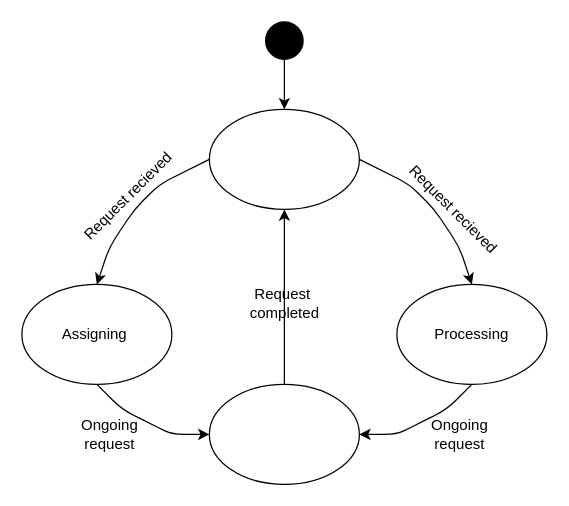
Some shapes in this 569 by 506 pixel diagram are drawn without their labels. The shapes that lost their labels are listed below. From the top down, each one's box as (x1, y1, x2, y2) in pixels, then its label:
(208, 108, 359, 209): Recieving/Blocked
(208, 383, 359, 484): Communicating
